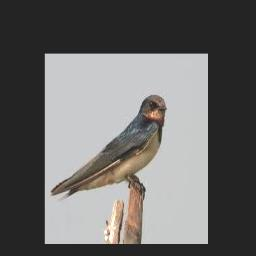Swallow: (50, 96, 167, 199)
